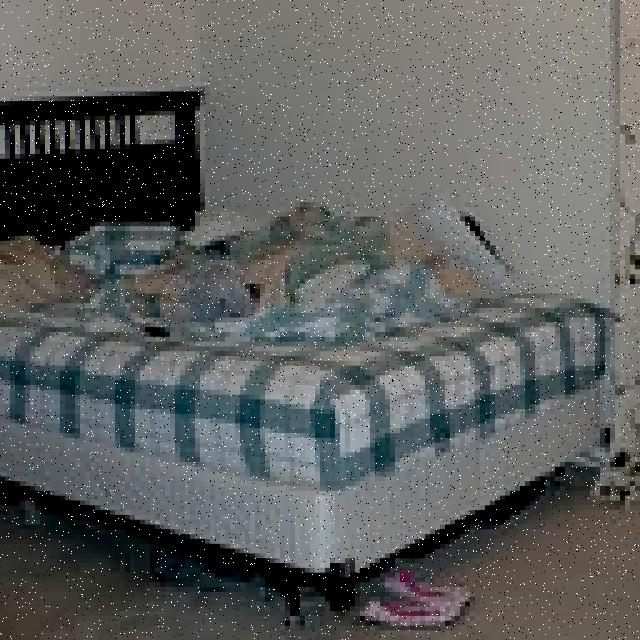bed: (12, 146, 598, 528)
